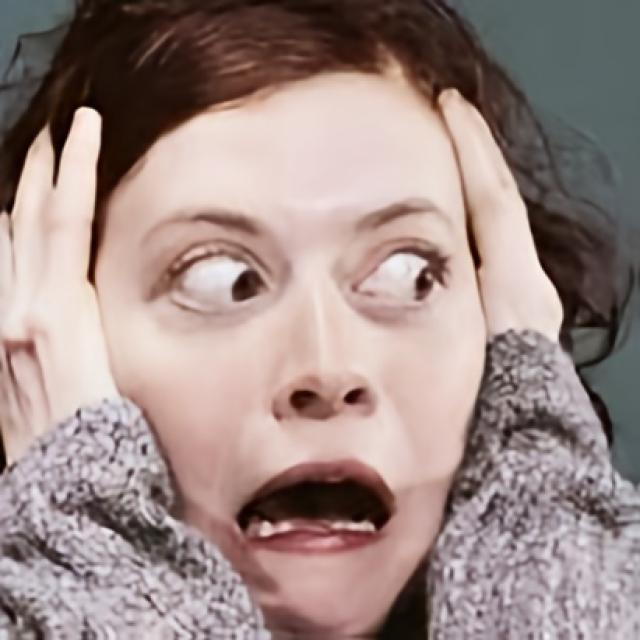fear: (92, 63, 484, 640)
